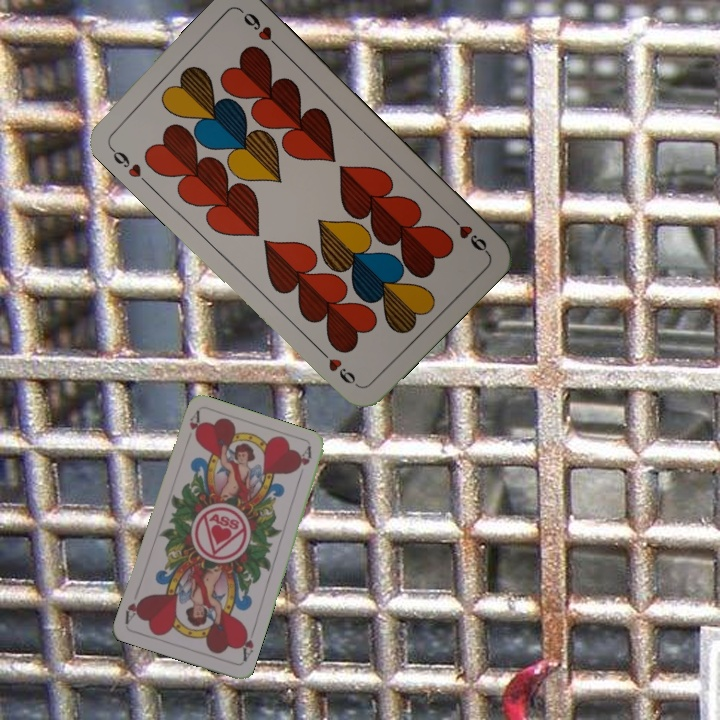H9: (444, 209, 491, 255), (105, 141, 151, 187)
HA: (236, 624, 257, 664), (182, 408, 203, 447)
